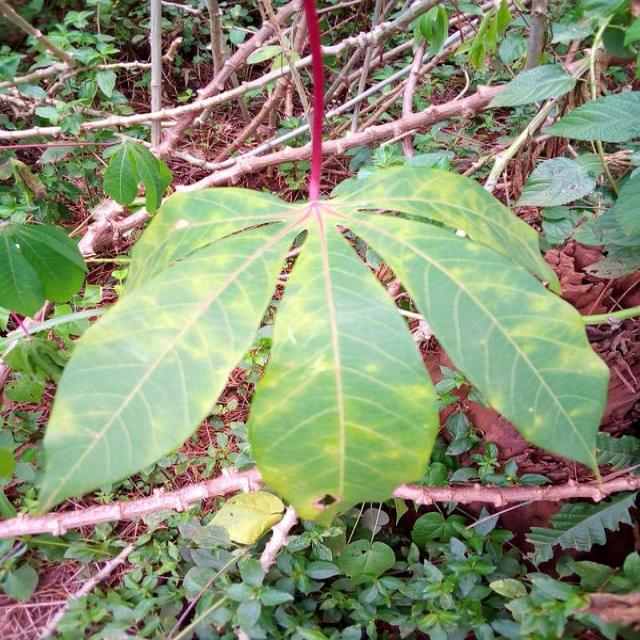cassava leaf: (35, 162, 611, 528), (33, 185, 310, 518), (327, 163, 611, 480), (247, 209, 442, 528)
